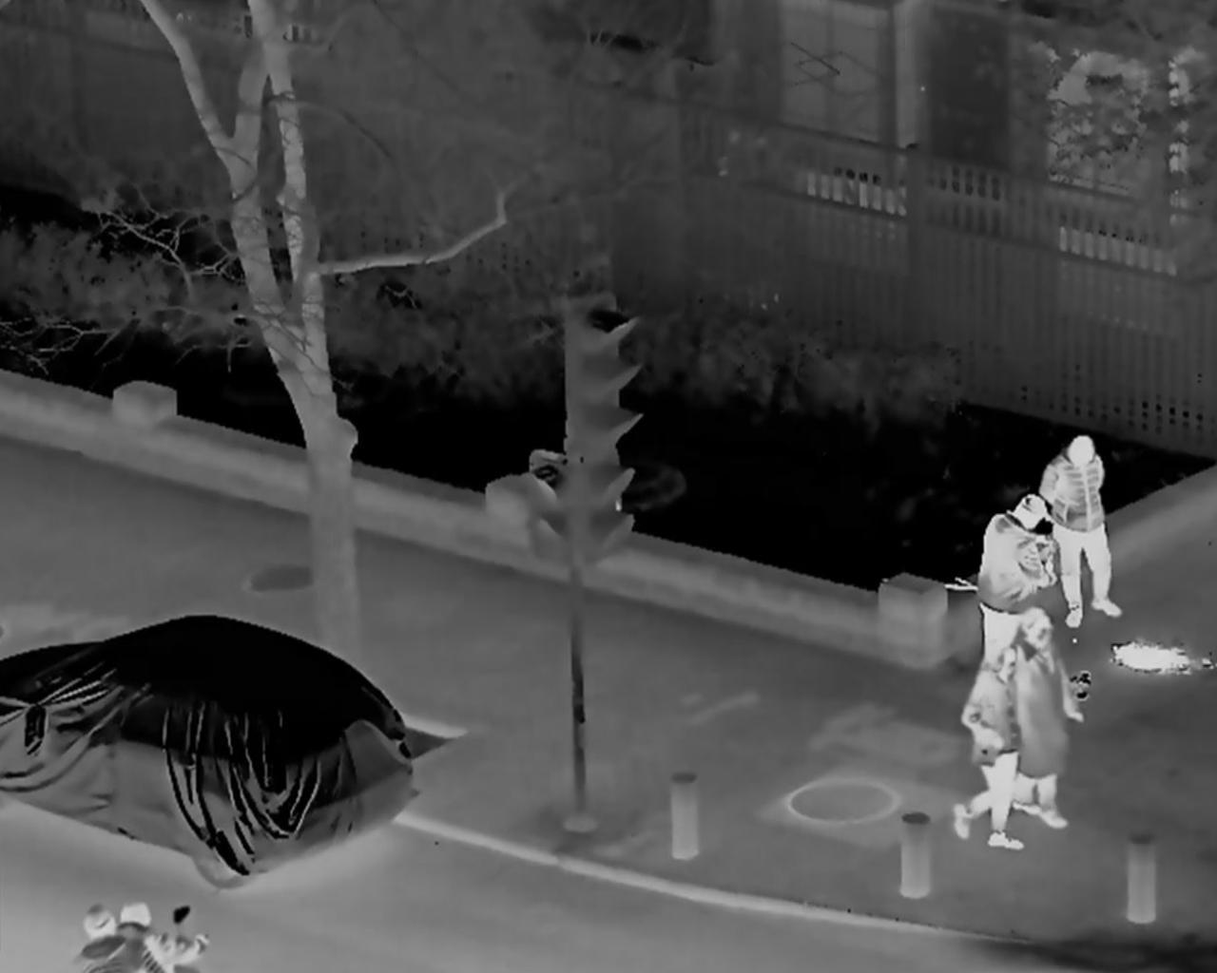person: (975, 496, 1087, 724), (1036, 432, 1123, 618), (1007, 617, 1076, 833), (953, 646, 1023, 854), (113, 906, 217, 973), (76, 911, 154, 973)
